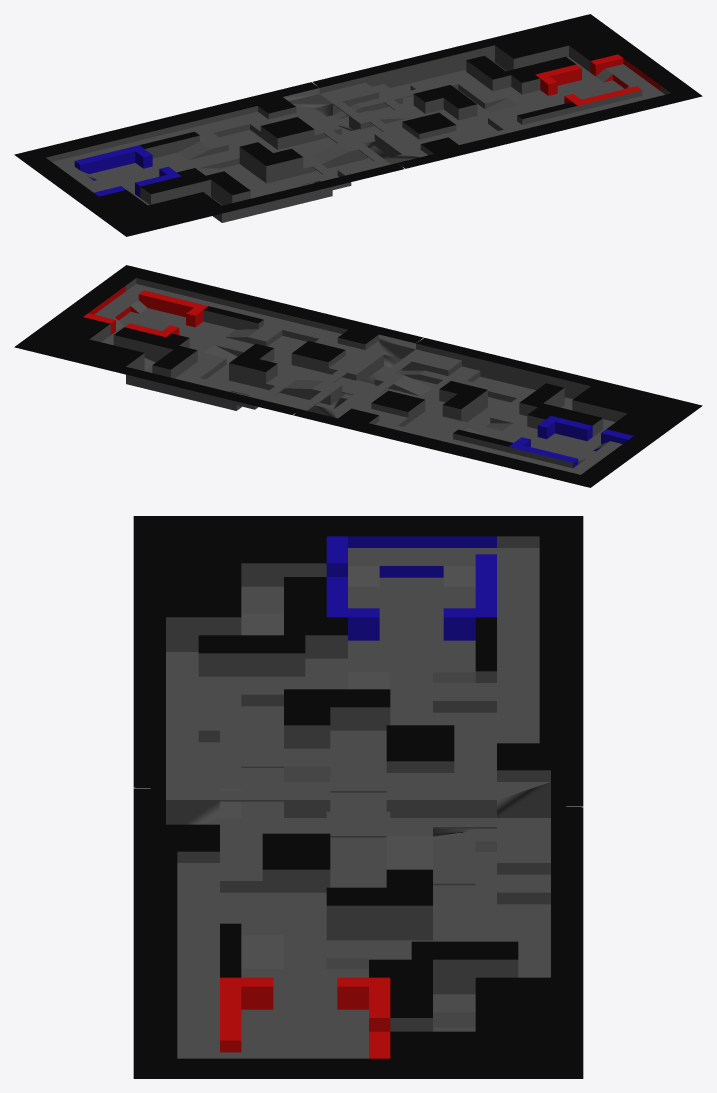
The model's file is level - old.FBX.
The picture shows the model from 3 angles, top to bottom: view 1: azimuth 30°, elevation 25°; view 2: azimuth 150°, elevation 25°; view 3: azimuth 270°, elevation 25°; orthographic projection. The views are drawn at different scales.
Visible parts, largest first — view 1: Plane001, Plane002; view 2: Plane001, Plane002; view 3: Plane002, Plane001.
Part boxes in pixels (<box>): Plane001: <box>313,14,702,168</box>; Plane002: <box>14,82,403,236</box>; Plane001: <box>14,265,423,414</box>; Plane002: <box>293,338,702,487</box>; Plane002: <box>133,516,583,841</box>; Plane001: <box>133,788,583,1078</box>.
Size of the model in its own units: 17575 by 506 by 5936.
